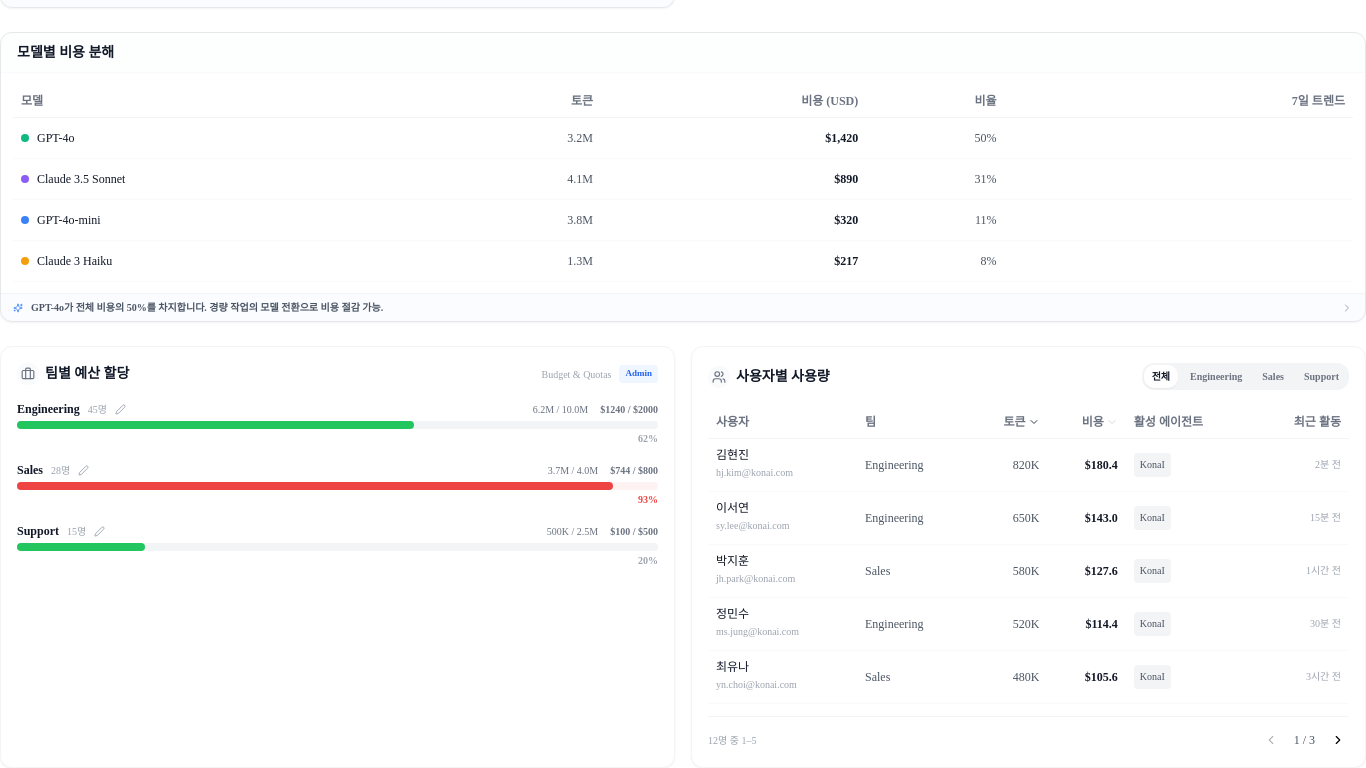
Test: User Usage Table › navigates to next page
(page scrolled)
Step 1. Click the button named "다음 페이지" → (1338,740), box [1327,729,1349,751]
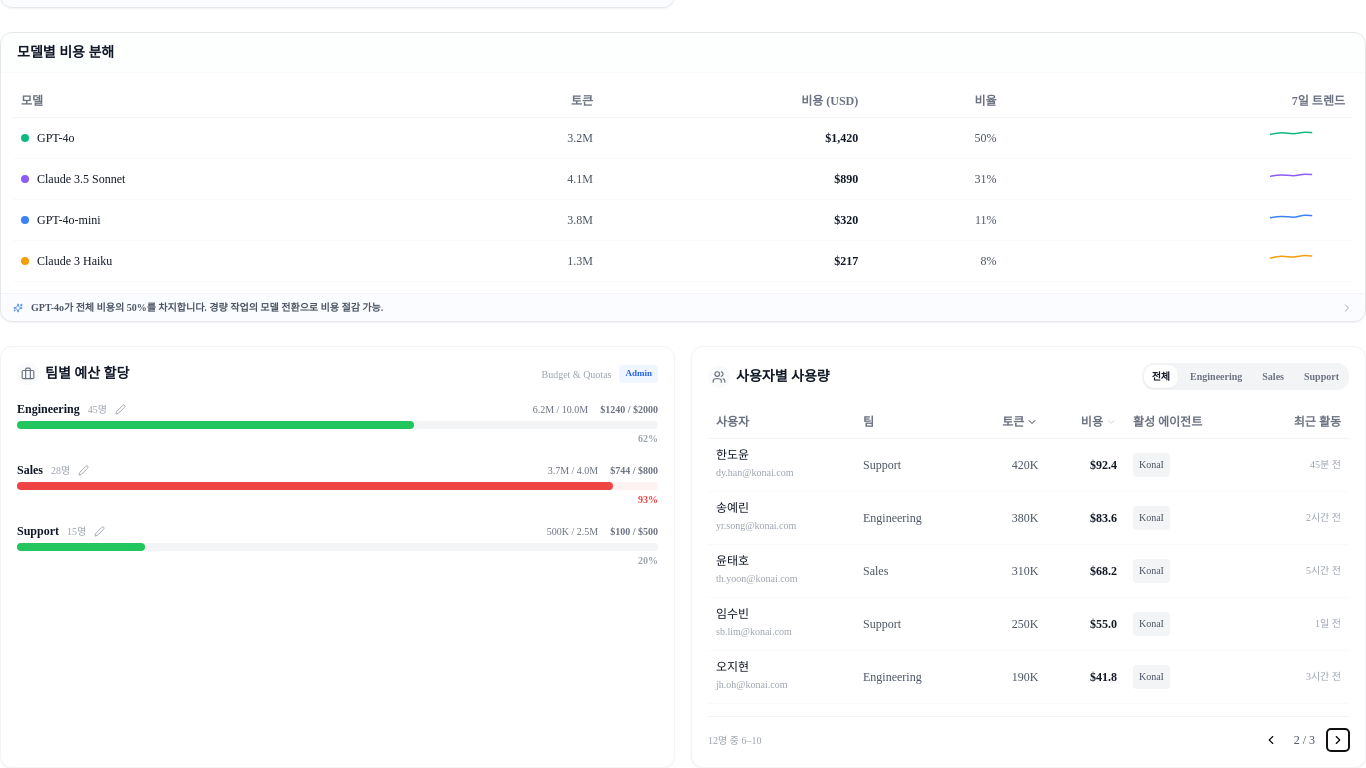
expect the text "한도윤" is shown: met, box [716,448,749,462]
